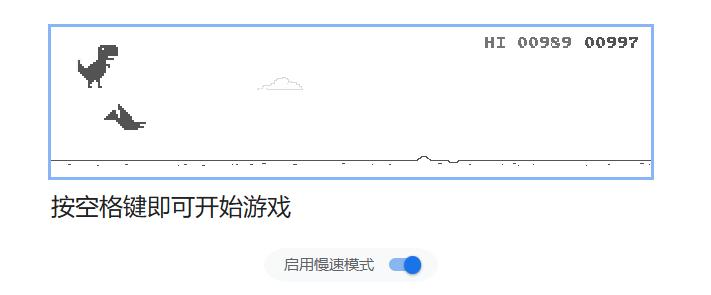bird: (103, 103, 146, 130)
dino: (76, 44, 119, 89)
